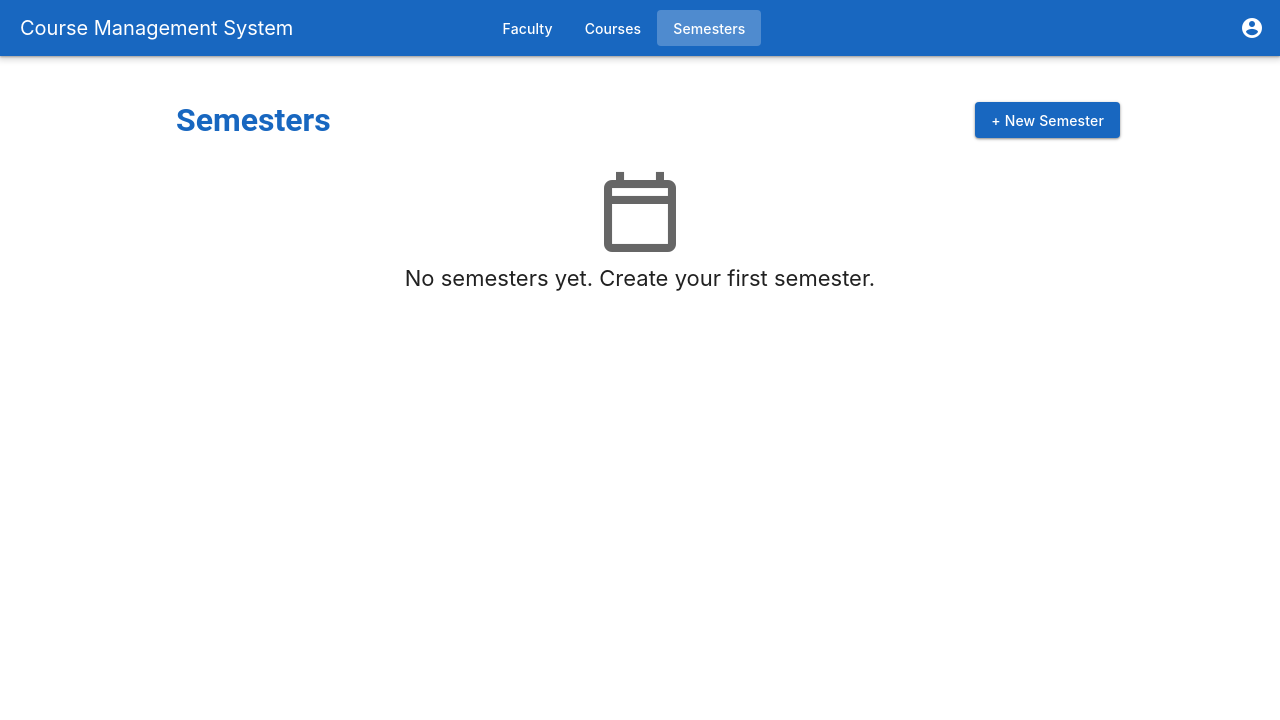
Test: Feature 2 — Semester Management › US-2.1 — Create semesters › Admin creates semester
Click the button "+ New Semester": point(1048, 120) 975,102 -> 1120,138
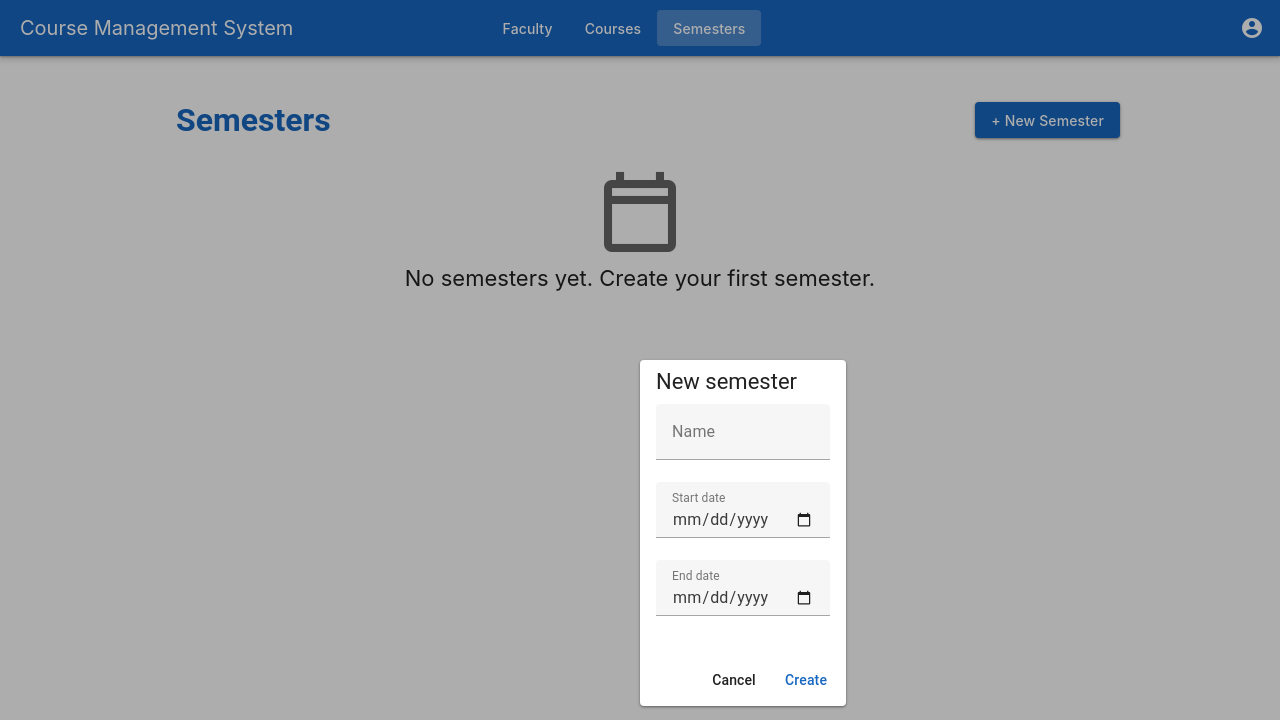
Result: the element showing "Name" is shown at 656,404 -> 830,482
Result: the element showing "Start date" is shown at 656,482 -> 830,560
Result: the element showing "End date" is shown at 656,560 -> 830,638
